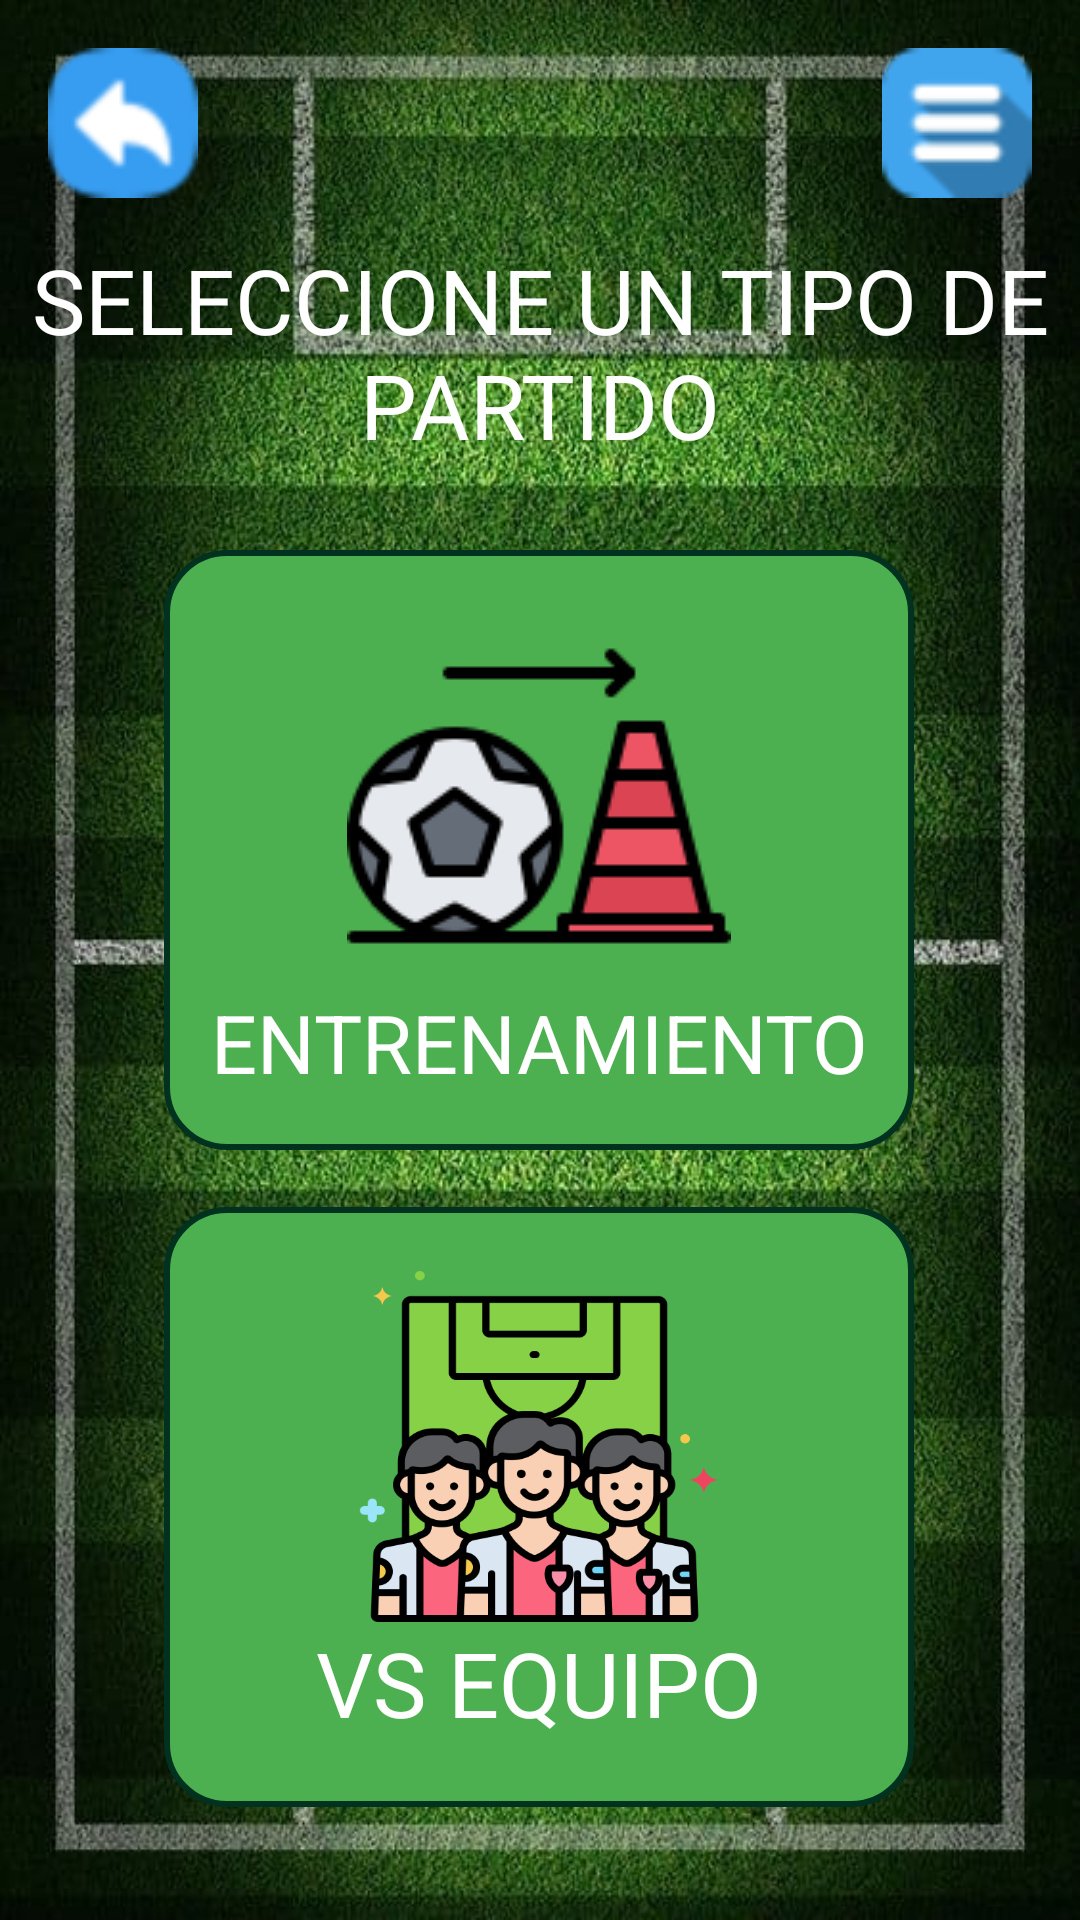

Icons on this 1080px×1920px Android screen, each with the point to tap as [x,y]:
atras: [123,123]
burger menu: [957,123]
